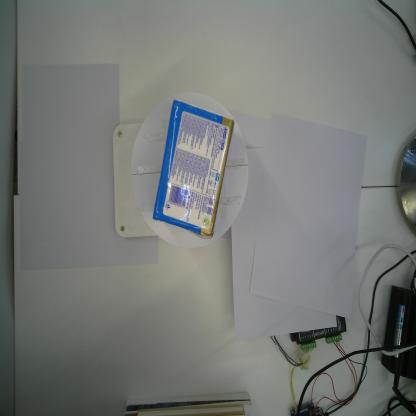Tissue: (152, 97, 236, 239)
